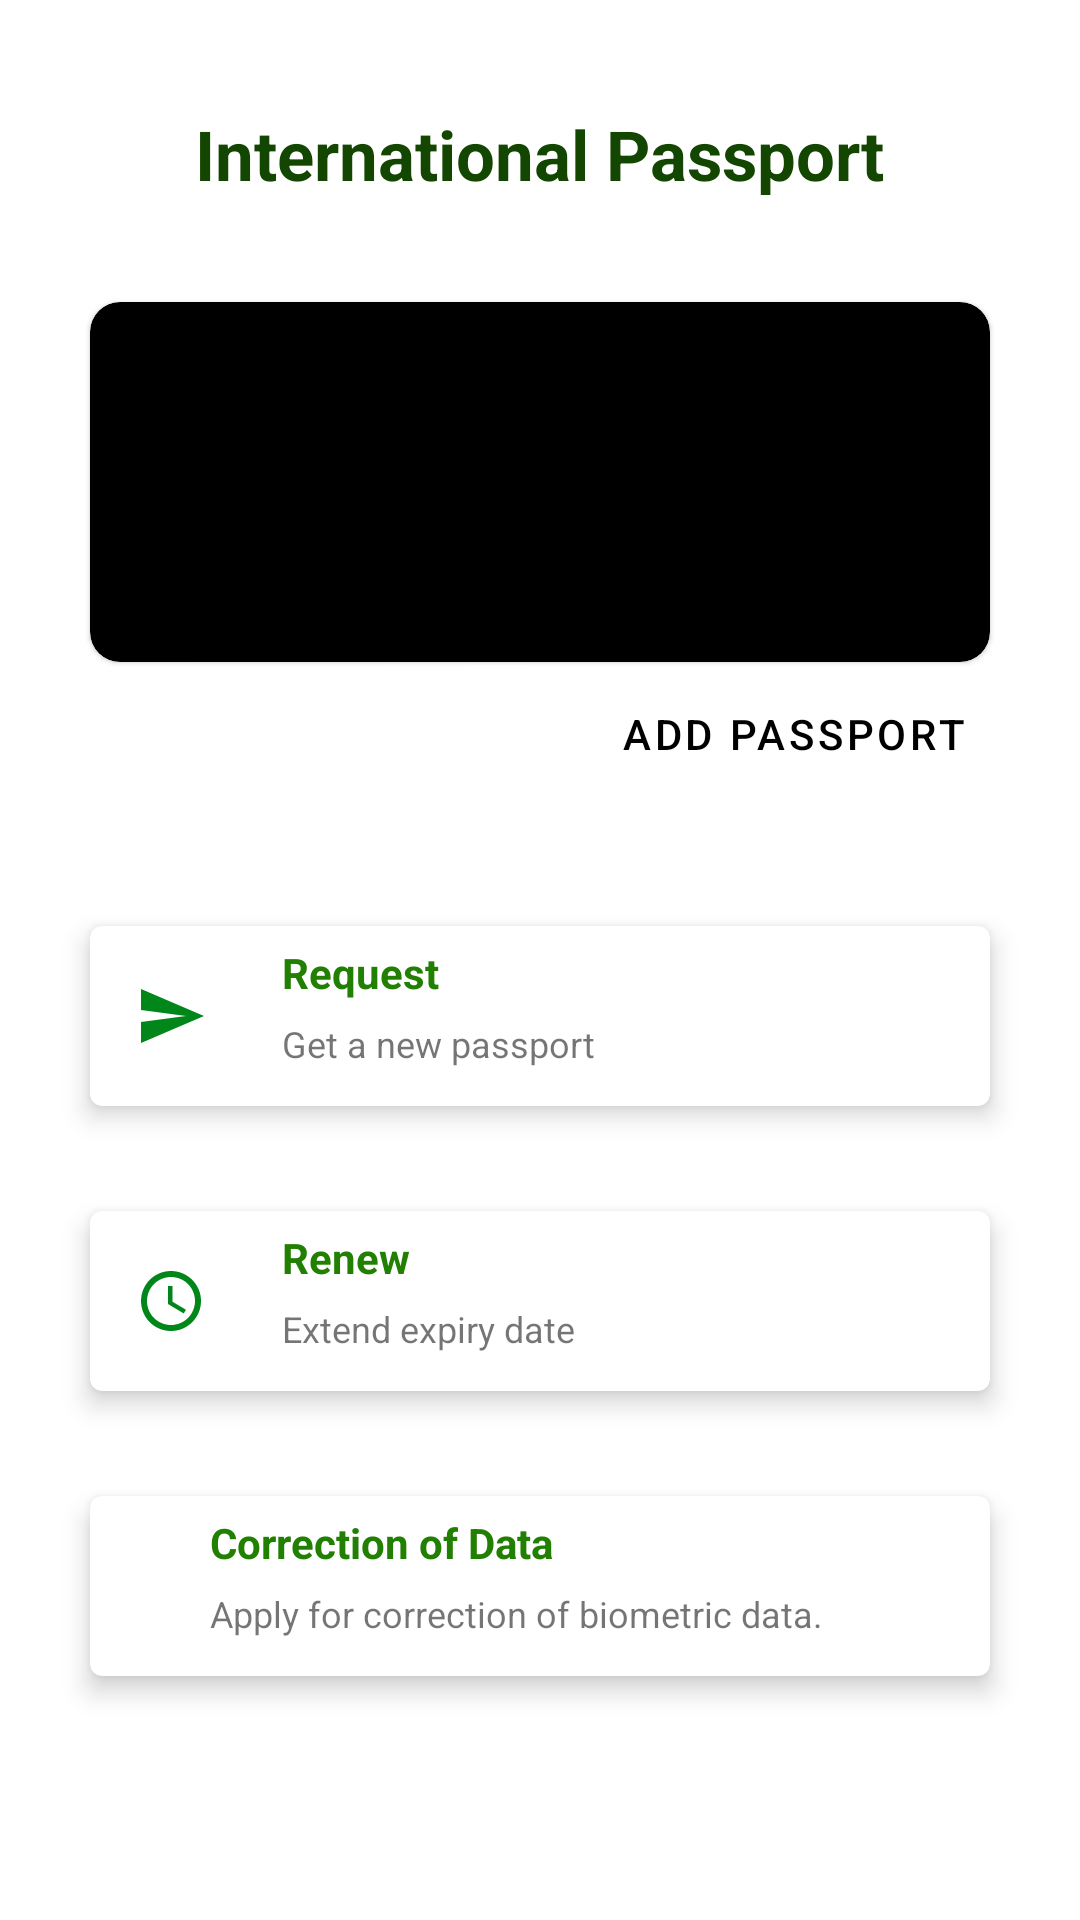

Screen size 1080 x 1920. Icon name, then its box in pixels as (x1, y1, x2, y2):
schedule: (141, 1271, 201, 1331)
send: (141, 989, 204, 1043)
